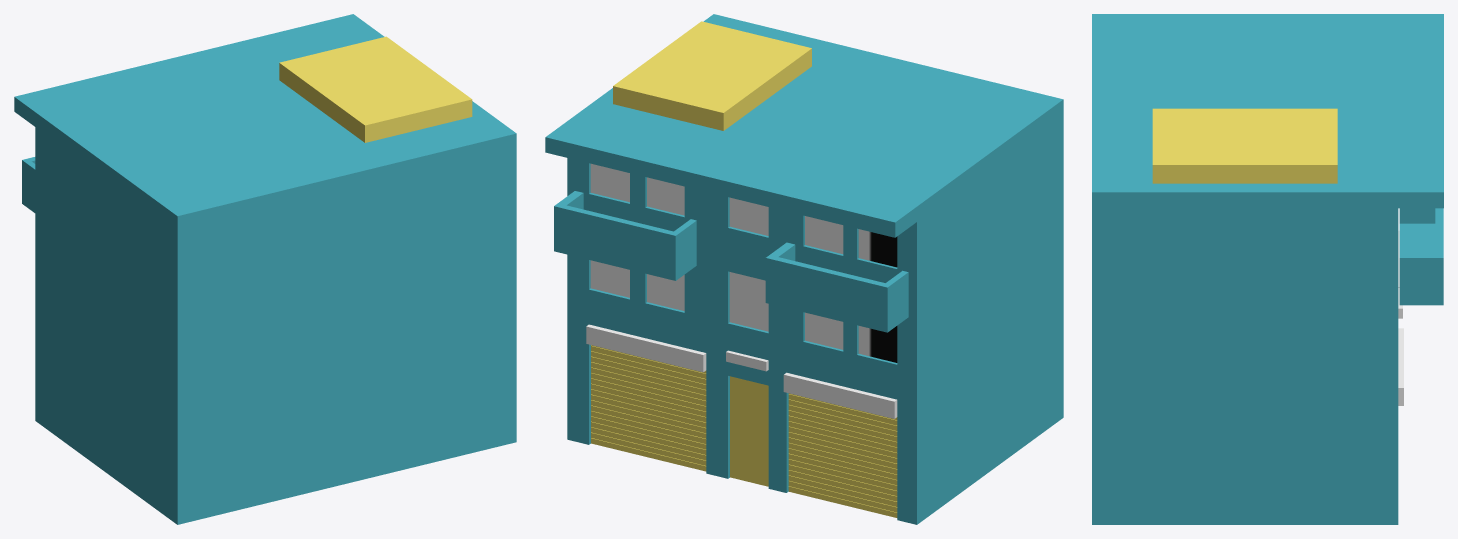
File: apartment_02_Geo.fbx
3 views of the same model, side by side, from view 1: azimuth 30°, elevation 25°; view 2: azimuth 150°, elevation 25°; view 3: azimuth 270°, elevation 25° (orthographic). The views are drawn at different scales.
Parts seen in each view (by area): view 1: apartment_02; view 2: apartment_02; view 3: apartment_02.
Part boxes in pixels (x1,y1,x2,y2): apartment_02: (14, 14, 516, 524); apartment_02: (545, 14, 1063, 524); apartment_02: (1092, 14, 1443, 524).
Size of the model in its own units: 1602 by 1472 by 1335.
